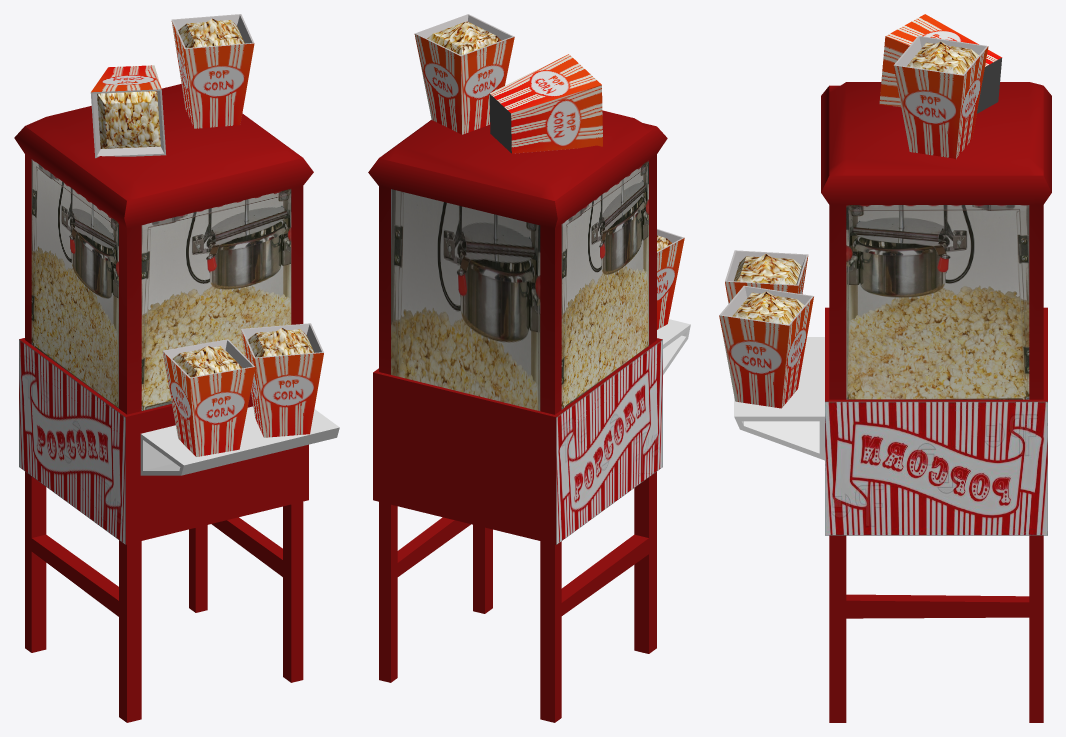
The model's file is popcornmachine.FBX.
The picture shows the model from 3 angles, left to right: view 1: azimuth 30°, elevation 25°; view 2: azimuth 150°, elevation 25°; view 3: azimuth 270°, elevation 25°; orthographic projection. The views are drawn at different scales.
Visible parts, largest first — view 1: Box001, Box012, Box013, Box0011, Box014; view 2: Box001, Box014, Box013, Box012; view 3: Box001, Box013, Box0011, Box014, Box012.
Boxes of the visible parts, x1,y1,x2,y2 form: Box001: [14, 84, 339, 722]; Box012: [162, 339, 255, 456]; Box013: [171, 14, 254, 128]; Box0011: [241, 323, 323, 437]; Box014: [90, 65, 165, 158]; Box001: [368, 110, 690, 722]; Box014: [489, 54, 602, 153]; Box013: [414, 14, 514, 134]; Box012: [657, 229, 684, 329]; Box001: [734, 82, 1051, 722]; Box013: [893, 35, 988, 159]; Box0011: [719, 285, 813, 408]; Box014: [879, 14, 1002, 113]; Box012: [725, 250, 808, 303].
Bounding box in the file's own units: 60.46 × 192 × 87.57.
8 materials, 4 textured.
